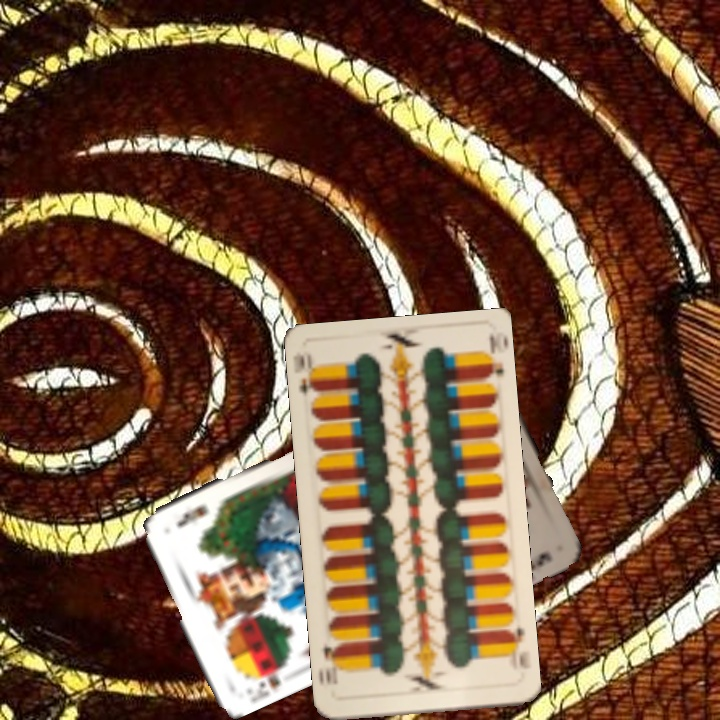E10: (292, 349, 322, 399), (501, 622, 531, 671)
SK: (254, 659, 288, 696)
